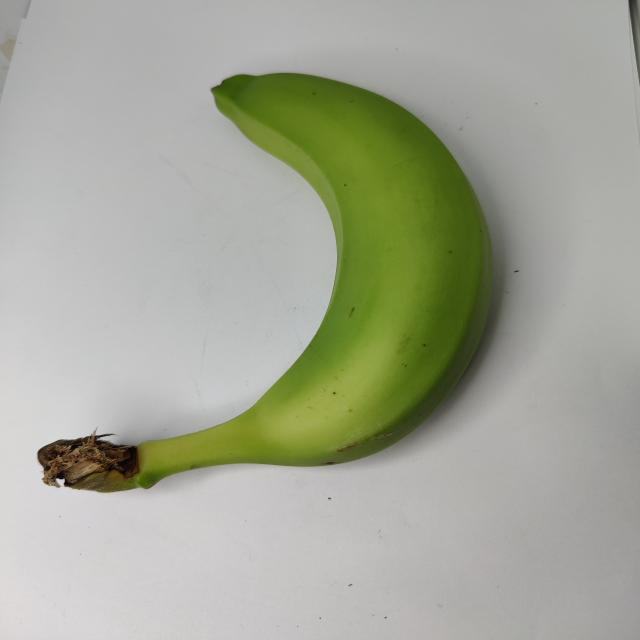raw: (36, 21, 571, 554)
